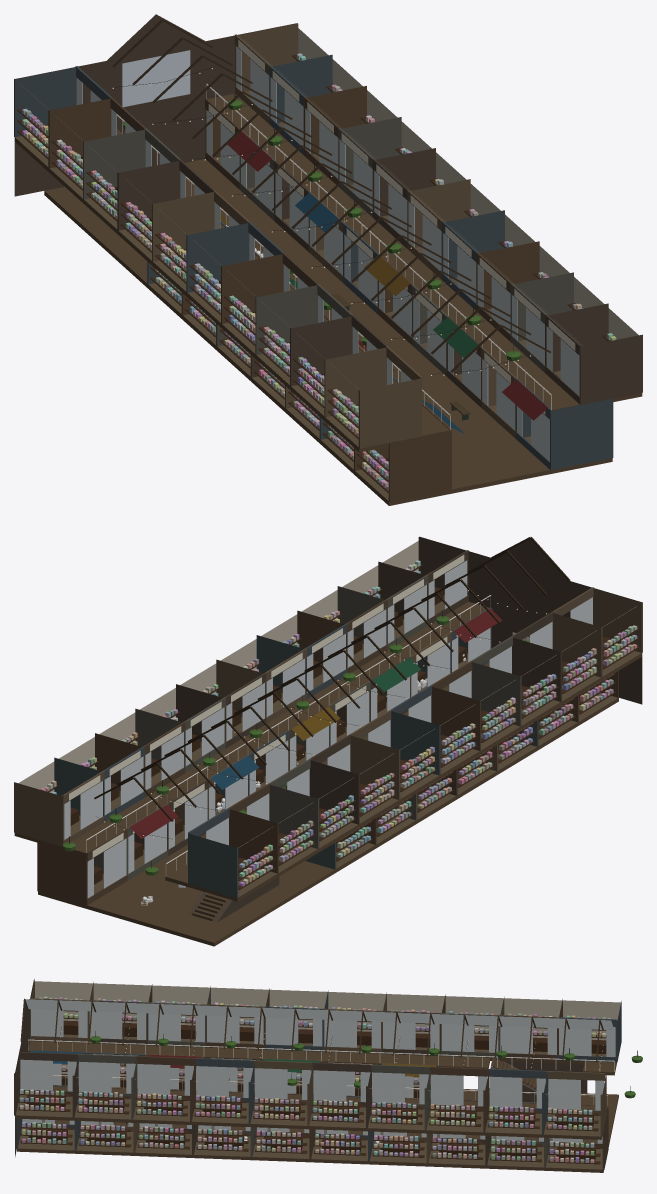
File: pier39_int.glb
3 renders of one model, top to bottom at view 1: azimuth 30°, elevation 25°; view 2: azimuth 150°, elevation 25°; view 3: azimuth 270°, elevation 25°, orthographic. The views are drawn at different scales.
Visible parts, largest first — view 1: I_x_veneer, I_glassI, I_paint, I_x_plaster, I_x_velvet, I_signI, I_sky, I_metal, I_leaf; view 2: I_x_veneer, I_glassI, I_paint, I_x_plaster, I_signI, I_x_velvet, I_metal, I_leaf; view 3: I_x_veneer, I_glassI, I_paint, I_x_plaster, I_metal, I_leaf, I_x_velvet, I_ceilglow.
Boxes of the visible parts, x1=… form: I_x_veneer: x1=14, y1=14, x2=642, y2=505; I_glassI: x1=76, y1=46, x2=579, y2=461; I_paint: x1=22, y1=53, x2=616, y2=490; I_x_plaster: x1=298, y1=28, x2=638, y2=339; I_x_velvet: x1=220, y1=131, x2=547, y2=433; I_signI: x1=208, y1=40, x2=575, y2=414; I_sky: x1=122, y1=50, x2=190, y2=107; I_metal: x1=115, y1=68, x2=551, y2=430; I_leaf: x1=122, y1=99, x2=520, y2=361; I_x_veneer: x1=14, y1=536, x2=642, y2=946; I_glassI: x1=64, y1=560, x2=592, y2=898; I_paint: x1=40, y1=560, x2=637, y2=886; I_x_plaster: x1=18, y1=541, x2=418, y2=792; I_signI: x1=69, y1=555, x2=464, y2=857; I_x_velvet: x1=130, y1=608, x2=502, y2=838; I_metal: x1=69, y1=592, x2=545, y2=876; I_leaf: x1=63, y1=616, x2=529, y2=875; I_x_veneer: x1=14, y1=979, x2=621, y2=1172; I_glassI: x1=20, y1=999, x2=615, y2=1143; I_paint: x1=20, y1=996, x2=610, y2=1162; I_x_plaster: x1=35, y1=981, x2=620, y2=1086; I_metal: x1=28, y1=1026, x2=637, y2=1124; I_leaf: x1=90, y1=1036, x2=642, y2=1098; I_x_velvet: x1=30, y1=1050, x2=436, y2=1076; I_ceilglow: x1=20, y1=1075, x2=595, y2=1096.
Size of the model in its own units: 24.38 by 11.25 by 55.55.
